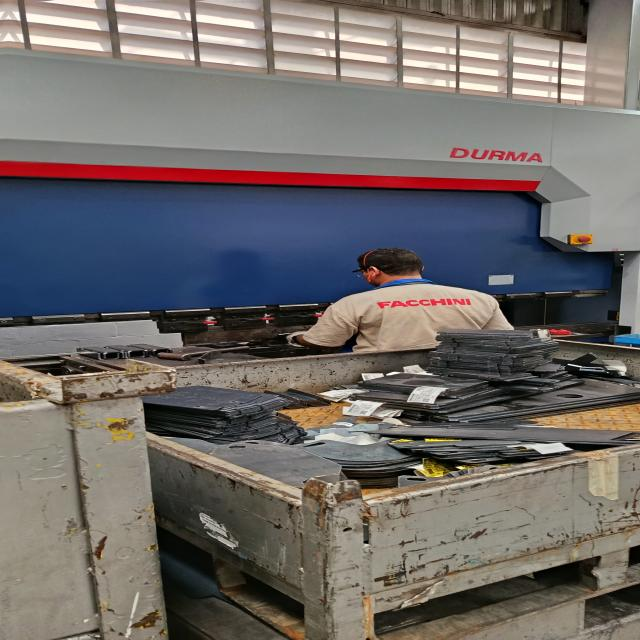oculos-epi: (352, 268, 368, 277)
